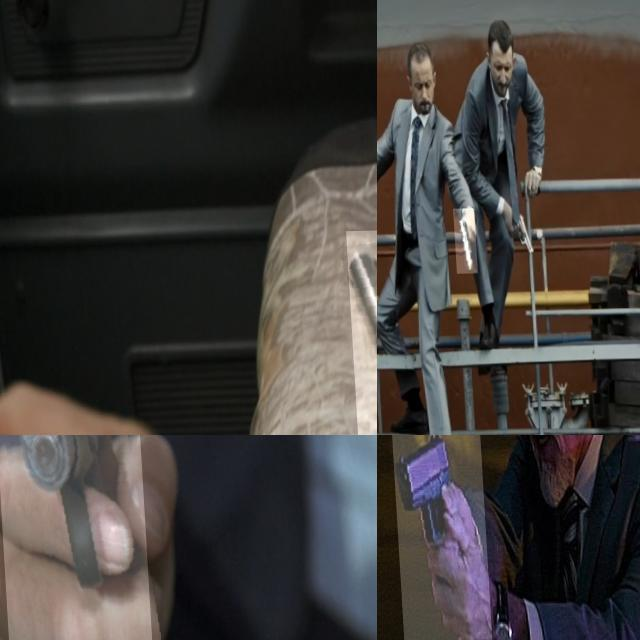gun-knife-thesis - v11 Yolov5 augmented: (0, 435, 147, 640), (387, 435, 487, 640), (449, 210, 474, 276), (506, 205, 531, 261)
